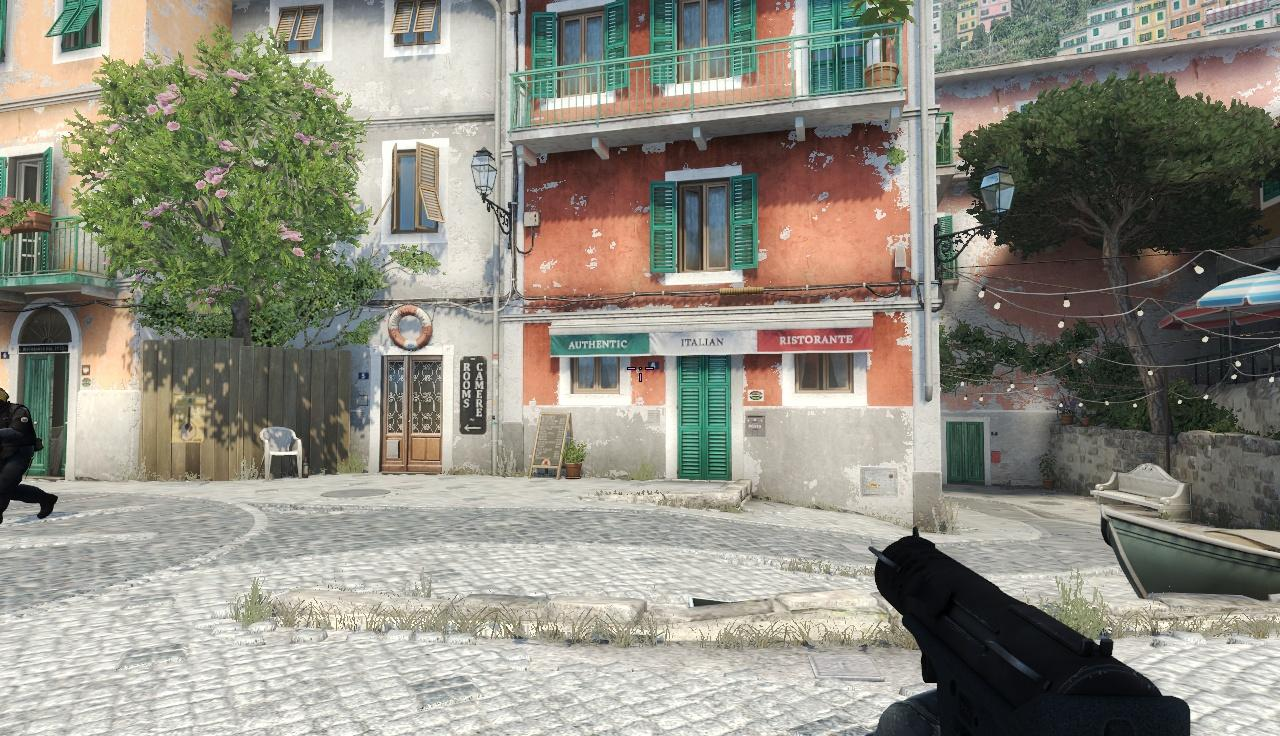ct: (1, 387, 34, 526)
cthead: (0, 388, 14, 410)
pistol: (874, 528, 1204, 736)
